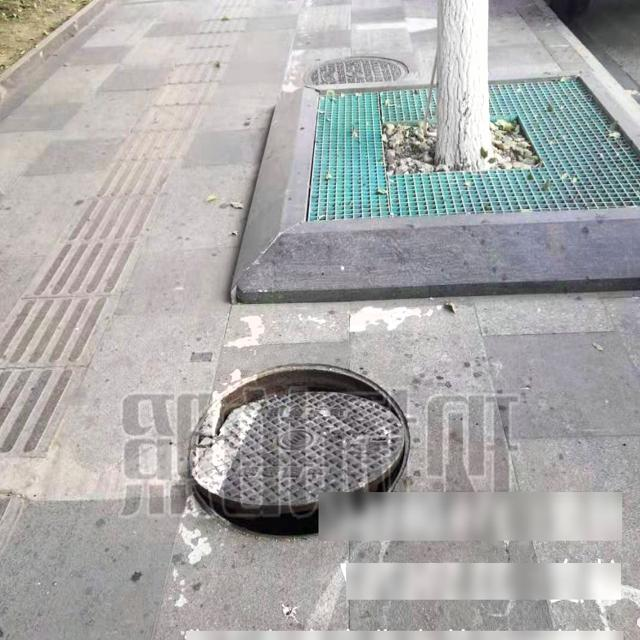uncovered: (188, 362, 411, 539)
